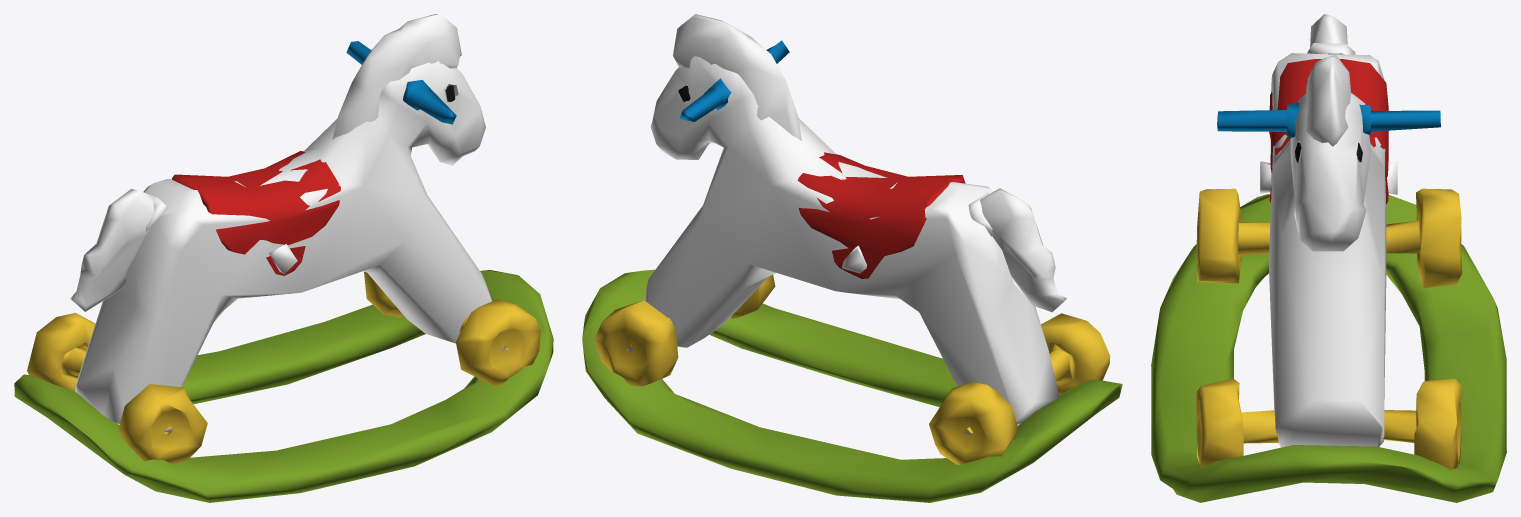
Rendered from Toy+House_Decimate_LOD2.fbx.
The picture shows the model from 3 angles, left to right: view 1: azimuth 30°, elevation 25°; view 2: azimuth 150°, elevation 25°; view 3: azimuth 270°, elevation 25°; orthographic projection. The views are drawn at different scales.
Visible parts, largest first — view 1: White matte plastic, green plastic, yellow plastic, red plastic, blue plastic; view 2: White matte plastic, green plastic, yellow plastic, red plastic, blue plastic; view 3: White matte plastic, green plastic, yellow plastic, red plastic, blue plastic.
Boxes of the visible parts, x1,y1,x2,y2 form: White matte plastic: (70, 14, 493, 423); green plastic: (14, 270, 553, 502); yellow plastic: (27, 271, 540, 463); red plastic: (172, 151, 340, 275); blue plastic: (346, 41, 456, 124); White matte plastic: (643, 14, 1066, 424); green plastic: (582, 269, 1122, 502); yellow plastic: (594, 275, 1110, 464); red plastic: (797, 152, 965, 278); blue plastic: (679, 40, 789, 121); White matte plastic: (1260, 14, 1397, 447); green plastic: (1151, 194, 1506, 502); yellow plastic: (1195, 188, 1462, 469); red plastic: (1269, 59, 1388, 204); blue plastic: (1217, 102, 1440, 138).
Size of the model in its own units: 62.99 by 46.52 by 33.89.
Materials: 7 (7 with a texture image).
